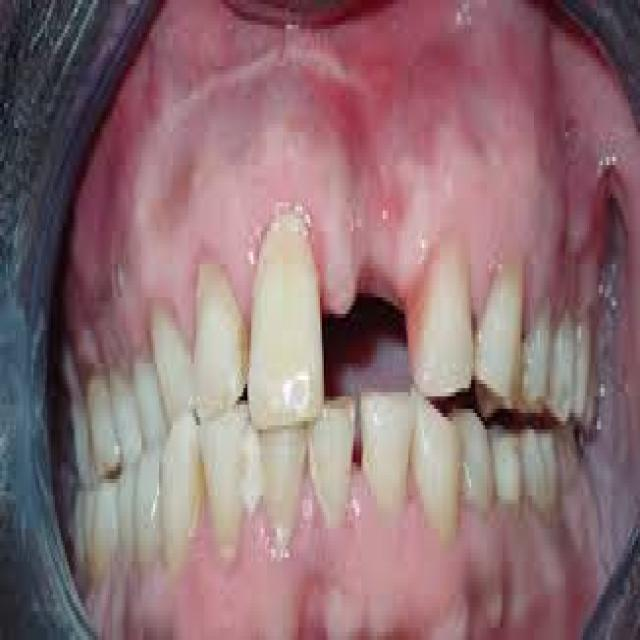tooth: (243, 219, 328, 421), (403, 240, 477, 396), (185, 235, 248, 409), (471, 231, 522, 413), (357, 372, 420, 516), (250, 409, 308, 545), (161, 409, 206, 574), (414, 392, 464, 537), (204, 421, 253, 558), (152, 298, 194, 430), (125, 433, 168, 558), (312, 388, 353, 512), (465, 396, 497, 537), (128, 339, 165, 450)
